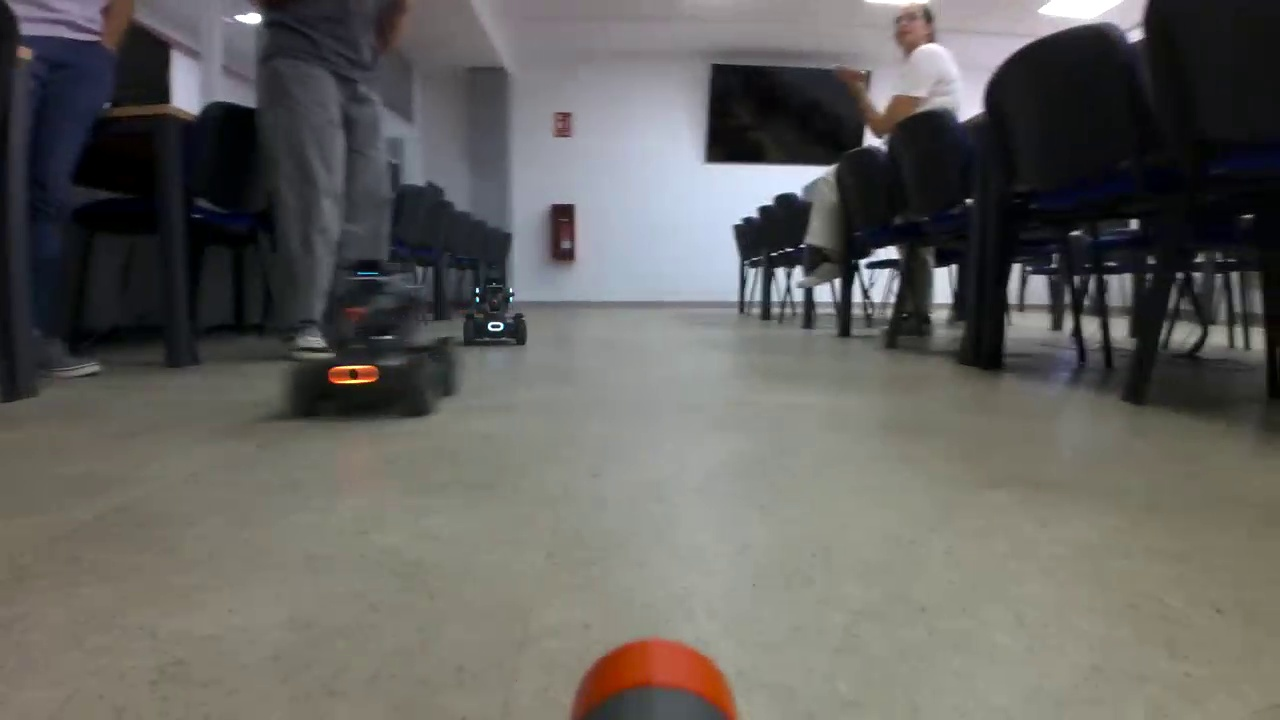robot: (288, 256, 446, 415), (462, 279, 526, 345)
